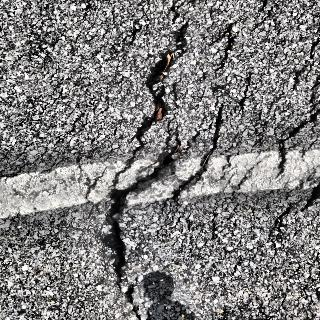crack: (99, 3, 189, 317), (274, 76, 319, 180), (271, 182, 318, 242), (195, 104, 226, 190), (211, 18, 243, 73), (305, 34, 320, 66)
